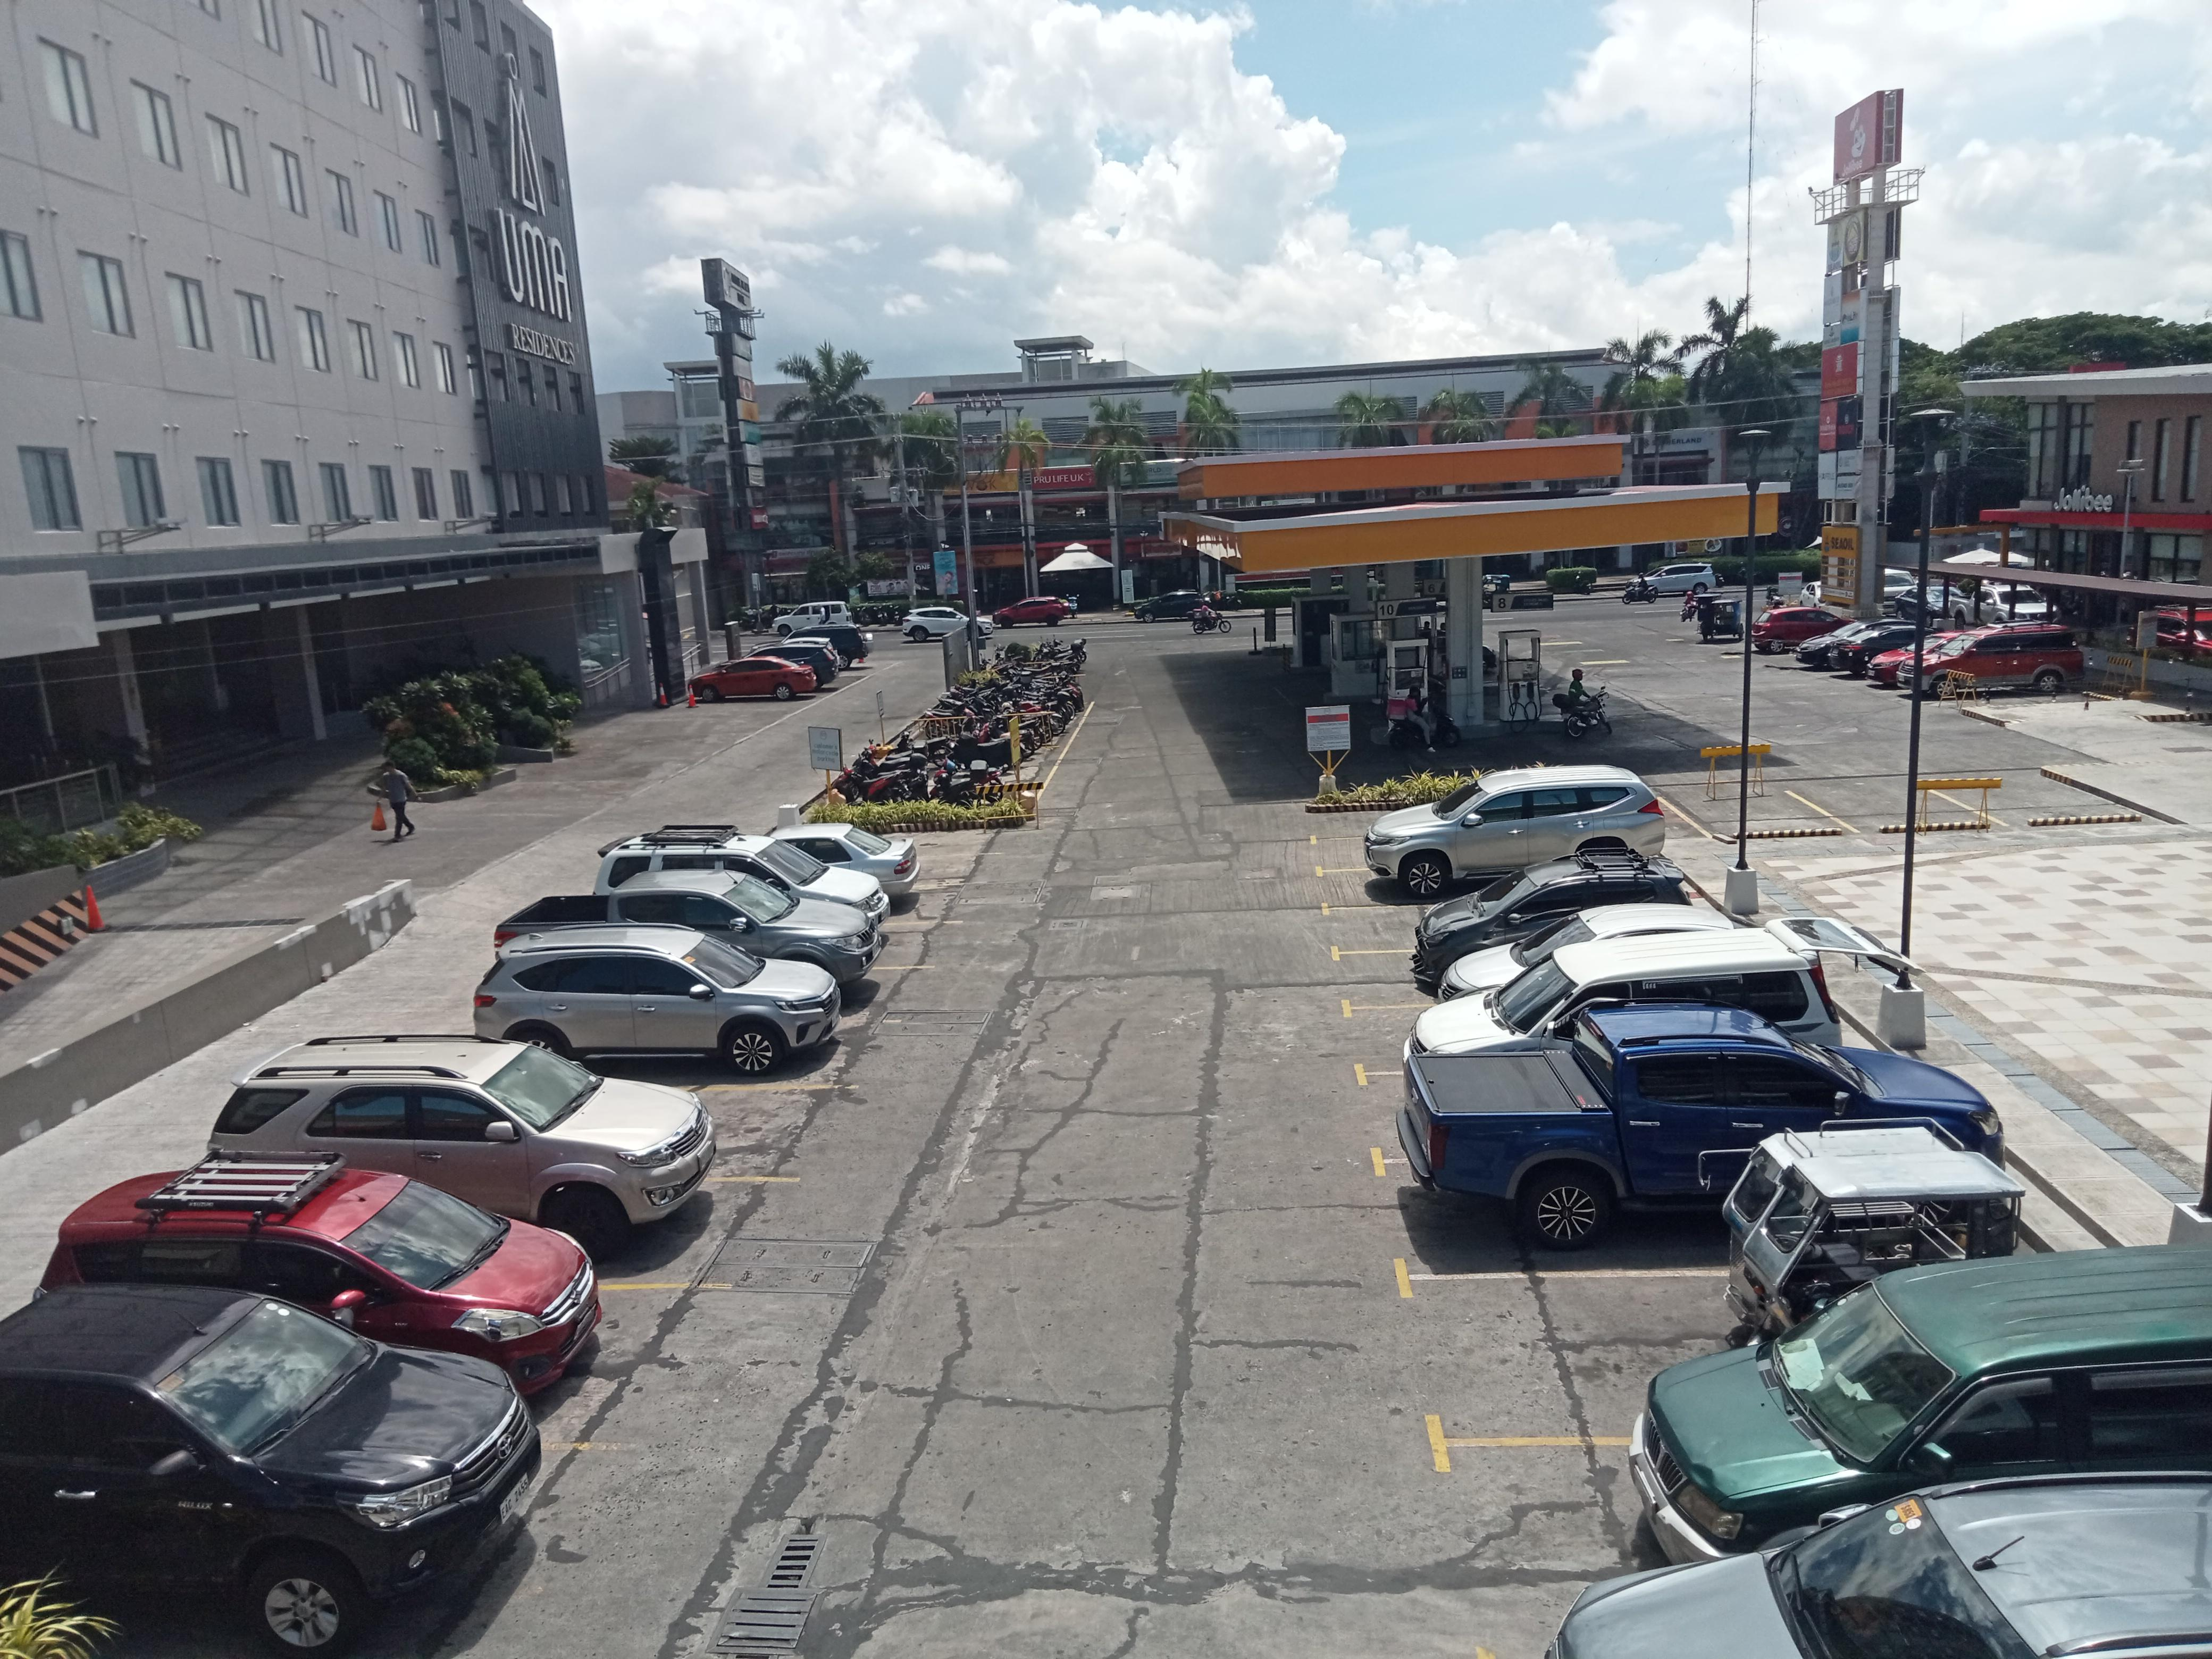vacant: (1914, 775, 2172, 828), (1785, 784, 2019, 833), (1655, 789, 1864, 842)
